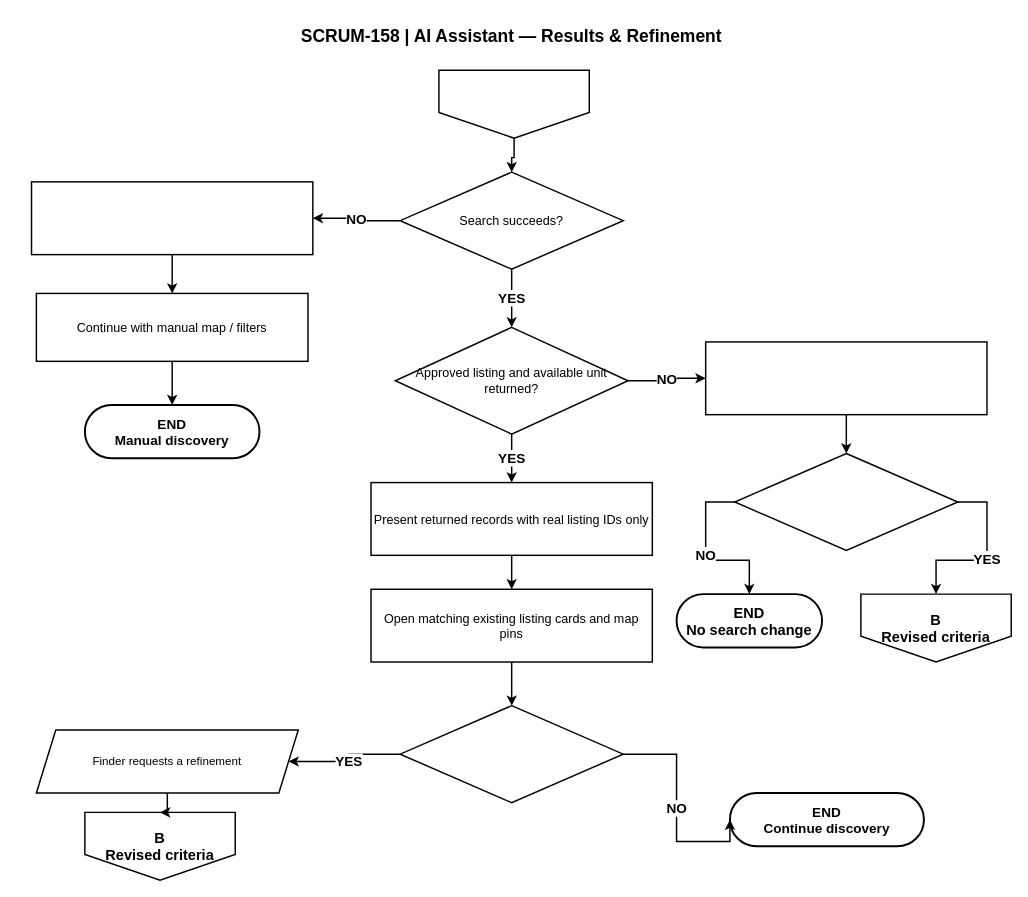
The diagram is 1028 pixels wide and 897 high, and some of its shapes have lost their labels. Here are the shapes that lost their labels. From the top down, the centre of each, then its label:
At (514,104): "S Search return".
At (171,218): "Explain failure; offer manual map / filters".
At (846,378): "No matches; offer optional user-selected changes".
At (846,501): "Finder chooses a change?".
At (511,754): "Refinement requested?".
